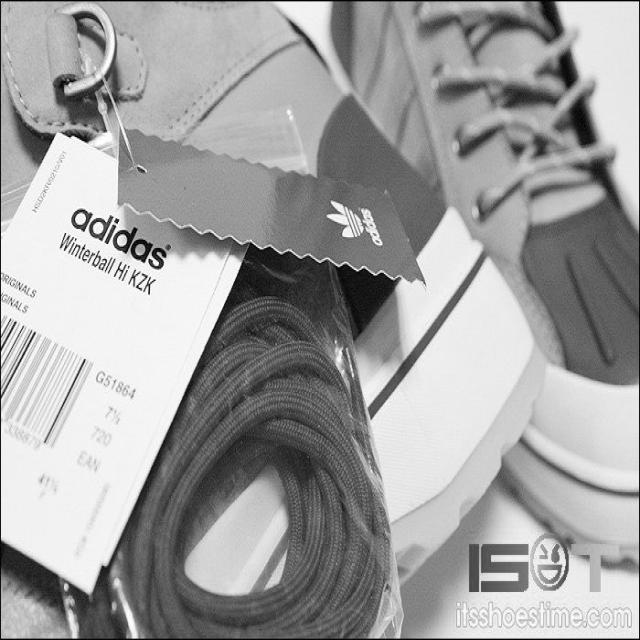Adidas: (326, 192, 387, 249)
